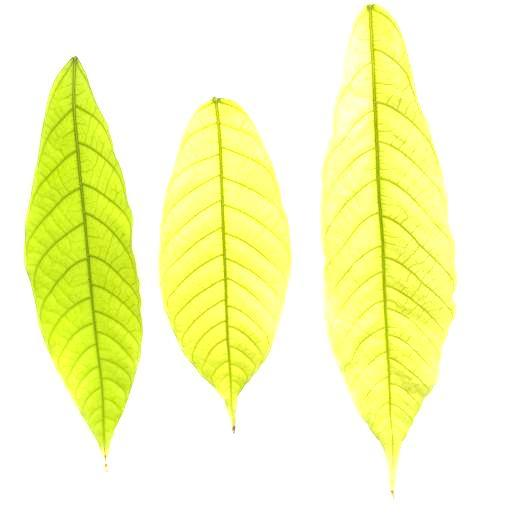Iron: (321, 4, 455, 491), (25, 57, 140, 459), (160, 98, 290, 429)
